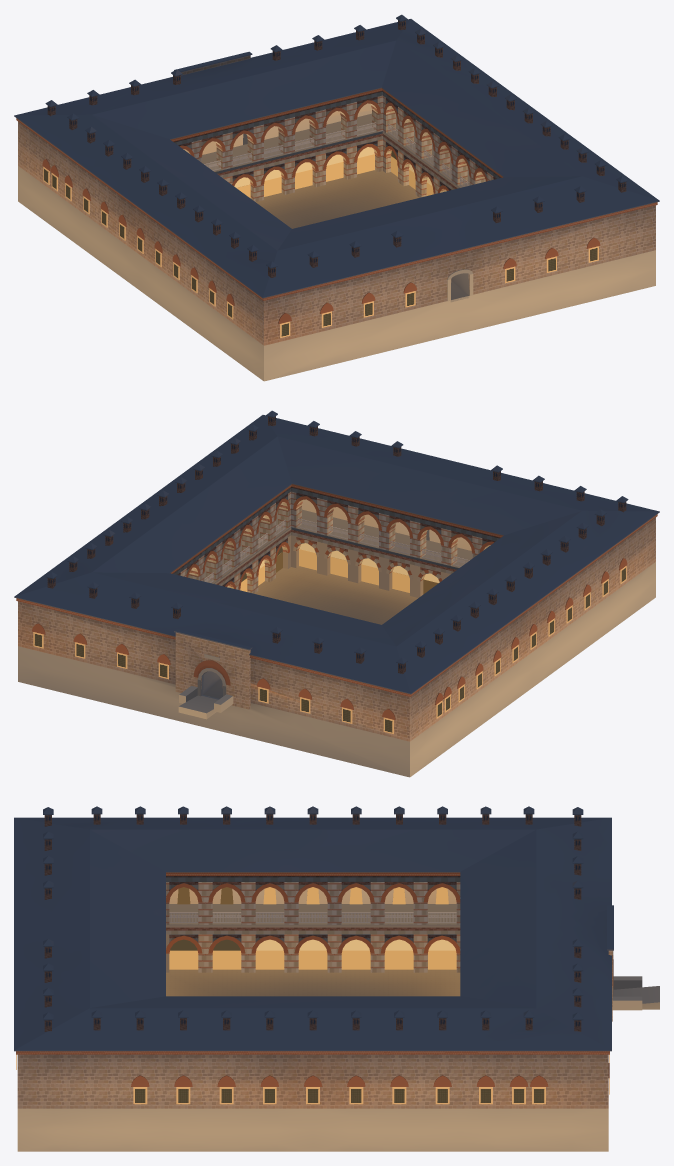
File: emir-hani_v08_night.glb
The picture shows the model from 3 angles, top to bottom: view 1: azimuth 30°, elevation 25°; view 2: azimuth 150°, elevation 25°; view 3: azimuth 270°, elevation 25°; orthographic projection. The views are drawn at different scales.
Parts seen in each view (by area): view 1: Emir_Hani, Avlu_Revaklari, Han_Avlu, Girisler; view 2: Emir_Hani, Avlu_Revaklari, Girisler, Han_Avlu; view 3: Emir_Hani, Avlu_Revaklari, Han_Avlu, Girisler.
Boxes of the visible parts, x1,y1,x2,y2 form: Emir_Hani: (14, 14, 659, 381); Avlu_Revaklari: (170, 88, 502, 201); Han_Avlu: (256, 170, 419, 228); Girisler: (174, 51, 473, 301); Emir_Hani: (14, 410, 659, 777); Avlu_Revaklari: (171, 484, 503, 597); Girisler: (174, 629, 252, 719); Han_Avlu: (254, 566, 417, 624); Emir_Hani: (14, 806, 611, 1151); Avlu_Revaklari: (166, 872, 460, 972); Han_Avlu: (166, 954, 460, 996); Girisler: (607, 905, 659, 1021).
Size of the model in its own units: 46.6 by 11.99 by 54.65.
18 materials, 8 textured.
